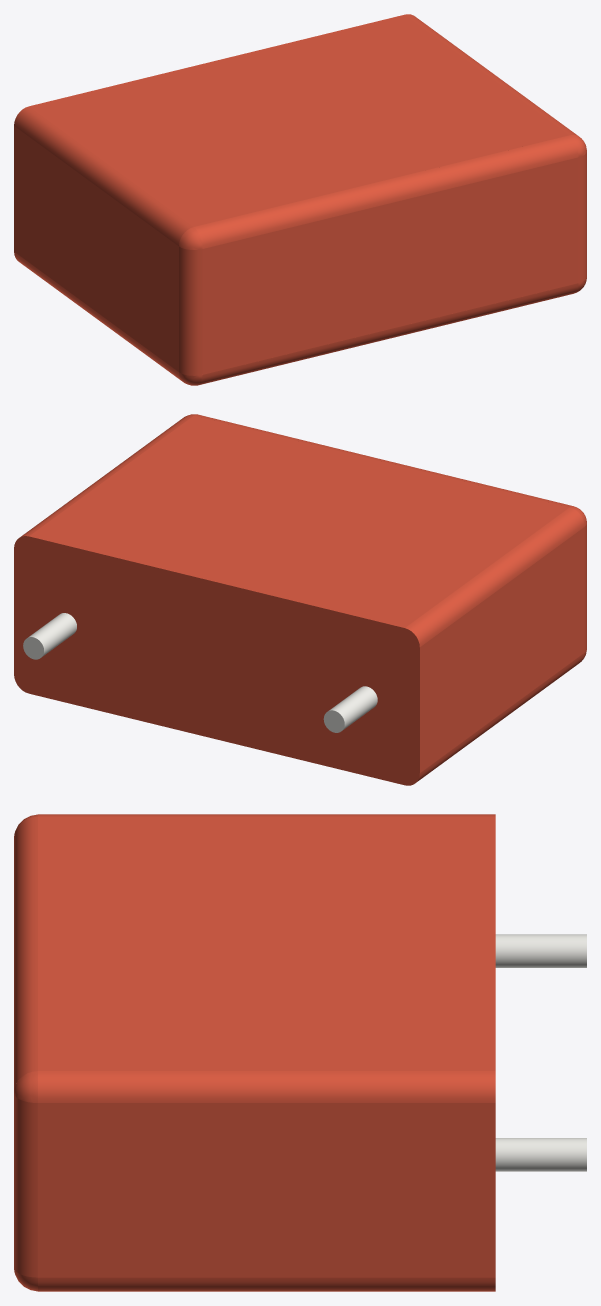
Rendered from C_Rect_L13.5mm_W5.0mm_P10.00mm_FKS3_FKP3_MKS4.glb.
The picture shows the model from 3 angles, top to bottom: view 1: azimuth 30°, elevation 25°; view 2: azimuth 150°, elevation 25°; view 3: azimuth 270°, elevation 25°; orthographic projection. The views are drawn at different scales.
Visible parts, largest first — view 1: Shape_IndexedFaceSet.009, Shape_IndexedFaceSet.007, Shape_IndexedFaceSet, Shape_IndexedFaceSet.016, Shape_IndexedFaceSet.004, Shape_IndexedFaceSet.015, Shape_IndexedFaceSet.002, Shape_IndexedFaceSet.001, Shape_IndexedFaceSet.017, Shape_IndexedFaceSet.011; view 2: Shape_IndexedFaceSet.003, Shape_IndexedFaceSet.009, Shape_IndexedFaceSet, Shape_IndexedFaceSet.004, Shape_IndexedFaceSet.001, Shape_IndexedFaceSet.016, Shape_IndexedFaceSet.011, Shape_IndexedFaceSet.013, Shape_IndexedFaceSet.014; view 3: Shape_IndexedFaceSet.009, Shape_IndexedFaceSet.012, Shape_IndexedFaceSet.011, Shape_IndexedFaceSet.010, Shape_IndexedFaceSet.016, Shape_IndexedFaceSet.017, Shape_IndexedFaceSet.013, Shape_IndexedFaceSet.014, Shape_IndexedFaceSet.004, Shape_IndexedFaceSet.019.
Part boxes in pixels (x1,y1,x2,y2): Shape_IndexedFaceSet.009: (29,14,568,226); Shape_IndexedFaceSet.007: (202,157,578,374); Shape_IndexedFaceSet: (14,126,178,371); Shape_IndexedFaceSet.016: (194,135,578,248); Shape_IndexedFaceSet.004: (14,106,193,245); Shape_IndexedFaceSet.015: (199,283,578,384); Shape_IndexedFaceSet.002: (179,246,202,375); Shape_IndexedFaceSet.001: (14,252,182,381); Shape_IndexedFaceSet.017: (578,152,586,282); Shape_IndexedFaceSet.011: (405,14,577,135); Shape_IndexedFaceSet.003: (14,536,419,785); Shape_IndexedFaceSet.009: (29,416,569,627); Shape_IndexedFaceSet: (420,527,584,772); Shape_IndexedFaceSet.004: (405,507,584,646); Shape_IndexedFaceSet.001: (416,653,584,782); Shape_IndexedFaceSet.016: (194,414,572,507); Shape_IndexedFaceSet.011: (21,415,193,536); Shape_IndexedFaceSet.013: (329,686,377,730); Shape_IndexedFaceSet.014: (28,613,76,656); Shape_IndexedFaceSet.009: (38,816,495,1070); Shape_IndexedFaceSet.012: (38,1103,495,1277); Shape_IndexedFaceSet.011: (38,1071,495,1102); Shape_IndexedFaceSet.010: (38,1277,495,1291); Shape_IndexedFaceSet.016: (14,816,37,1090); Shape_IndexedFaceSet.017: (14,1094,37,1277); Shape_IndexedFaceSet.013: (495,934,586,967); Shape_IndexedFaceSet.014: (495,1138,586,1171); Shape_IndexedFaceSet.004: (38,814,495,816); Shape_IndexedFaceSet.019: (14,1071,37,1102).
Bounding box in the file's own units: 5.32 × 1.97 × 4.69.
